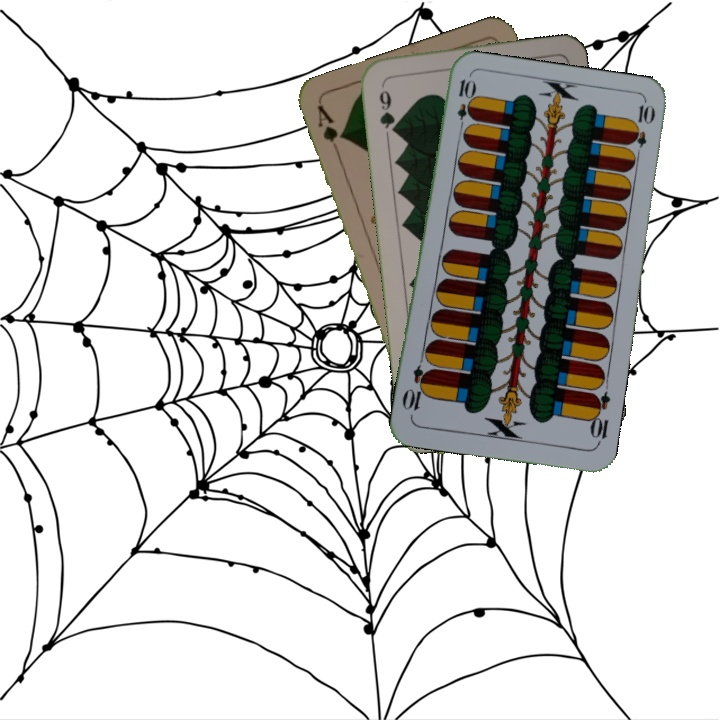E10: (585, 389, 613, 448), (453, 75, 475, 134)
G9: (375, 86, 400, 137)
GA: (313, 101, 346, 157)
